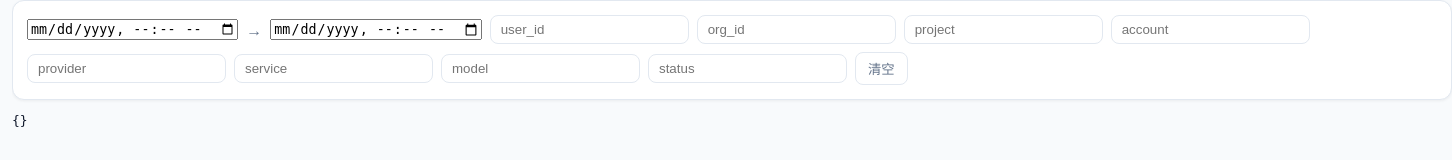
Test case: clearing resets to empty
Type "school-x" into the field with placeholder "org_id".
click(796, 30); type("school-x")  # box [697, 15, 896, 44]
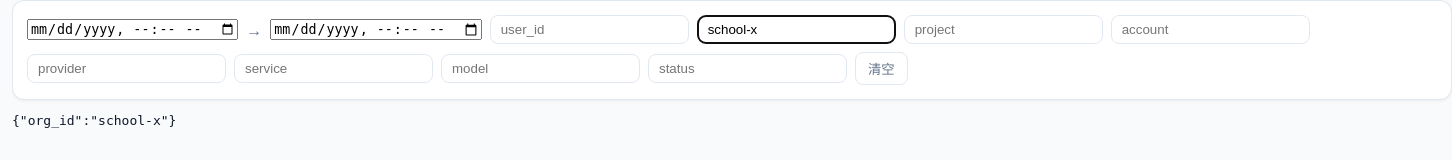
Click the button "清空".
click(881, 68)  # box [855, 52, 908, 85]
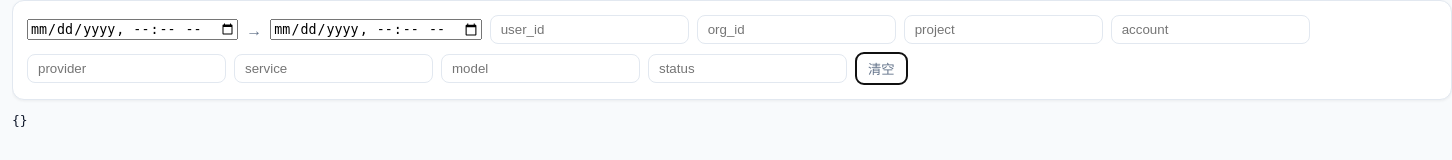
Check: the text with test id "state" reads "{}", box [12, 113, 28, 128]
